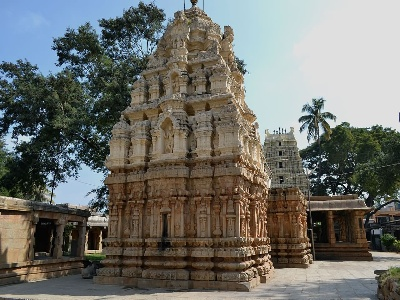gopuram: (82, 16, 276, 267)
mandapa: (313, 193, 383, 246)
